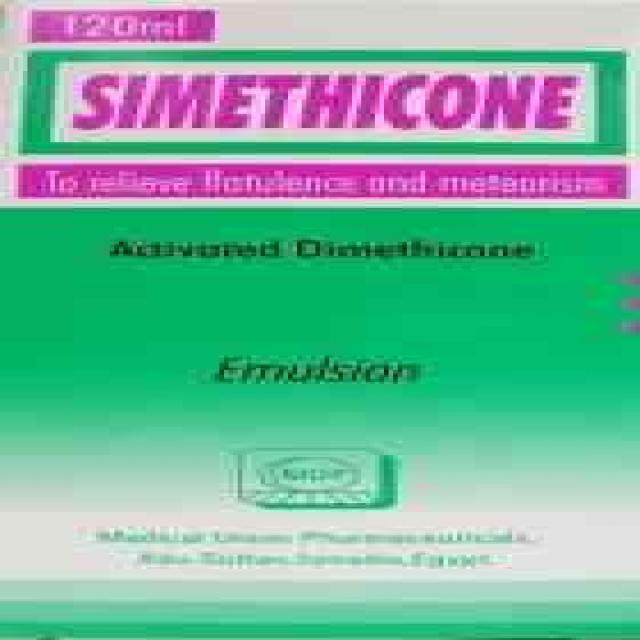drug-name: (68, 66, 587, 144)
